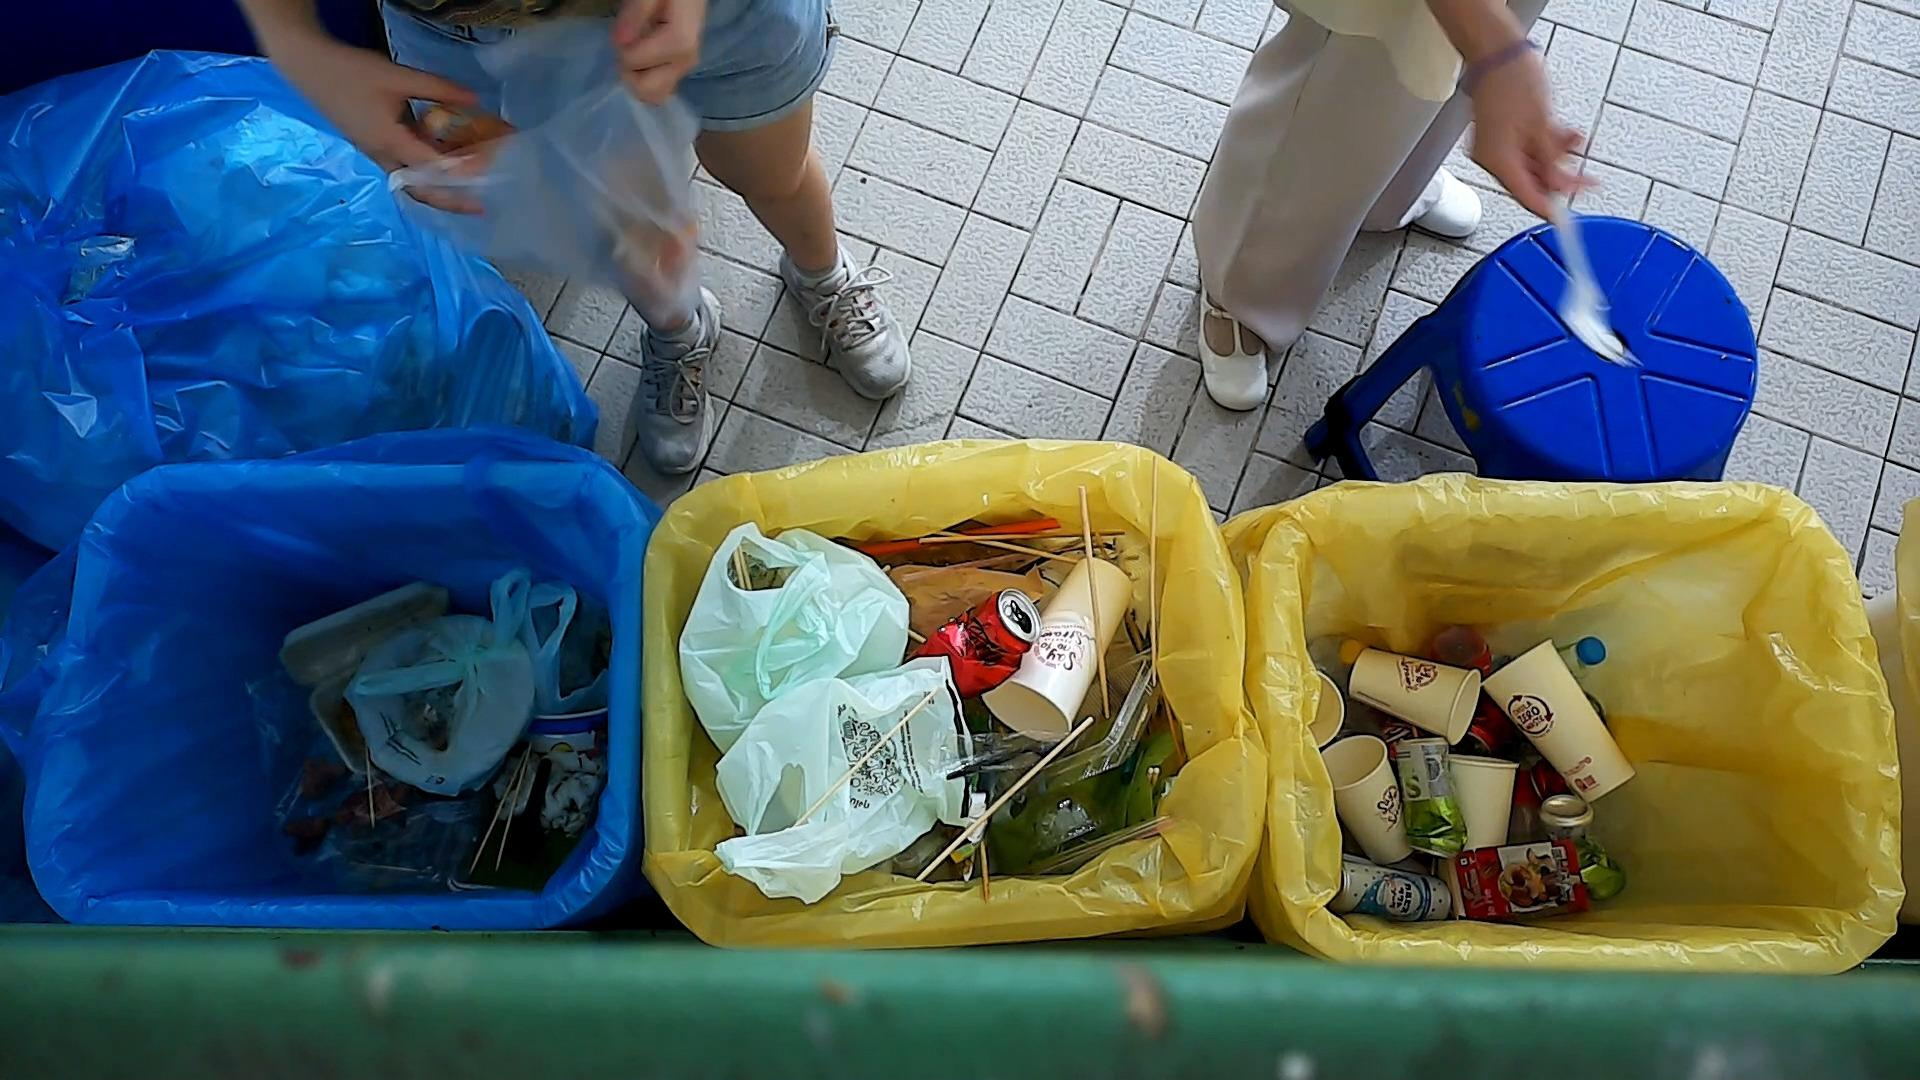can: (911, 587, 1046, 707), (1532, 791, 1630, 909), (1391, 733, 1470, 864), (1328, 858, 1455, 926)
dirty food container: (450, 738, 611, 895)
filled plastic bag: (369, 8, 716, 334), (676, 513, 914, 783), (335, 563, 545, 804), (522, 570, 616, 719)
food container: (992, 641, 1163, 808), (520, 704, 617, 756)
paper bag: (887, 560, 1051, 640)
plastic bag: (703, 644, 985, 910)
plastic cutlery: (1544, 183, 1648, 386), (919, 725, 1095, 786)
snack packaging: (1452, 836, 1594, 923)
sticks: (914, 713, 1096, 889), (786, 683, 943, 835), (1073, 479, 1113, 720), (468, 745, 525, 880), (931, 527, 1080, 567), (915, 525, 1131, 547), (496, 742, 530, 874), (1146, 455, 1160, 690)
straw: (894, 549, 1035, 583)
zero waste cup: (980, 554, 1137, 748), (1477, 634, 1639, 810), (1433, 749, 1520, 923), (1345, 642, 1484, 748), (1321, 731, 1416, 866)
